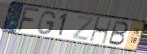1: (57, 13, 68, 38)
B: (106, 20, 129, 47)
F: (16, 6, 42, 33)
G: (36, 10, 57, 36)
H: (89, 17, 113, 46)
Z: (71, 15, 95, 42)
